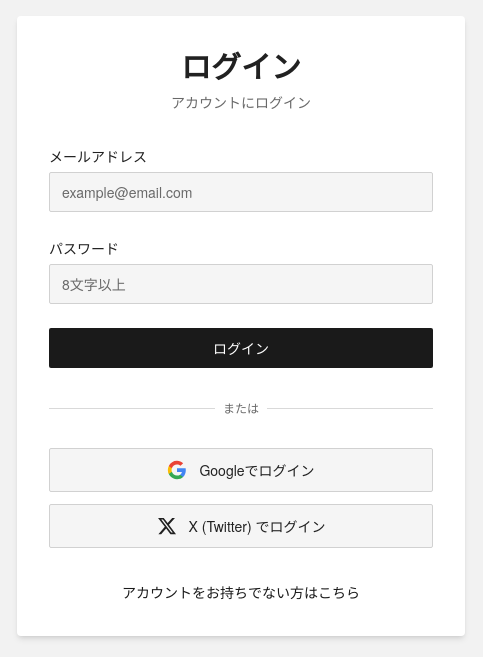
Test: LoginPage › shows loading state during form submission
The image size is (483, 657).
Type "user@test.com" into the field labelled "メールアドレス".
click(241, 192); type("user@test.com")  # box [49,172,433,212]
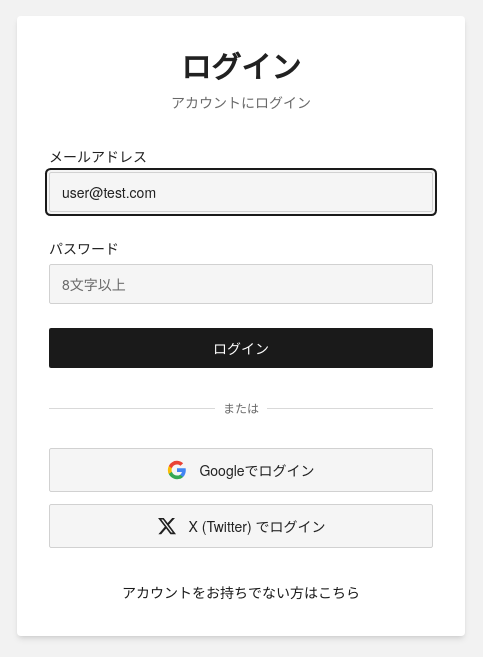
Type "password123" into the password field labelled "パスワード".
click(241, 284); type("password123")  # box [49,264,433,304]
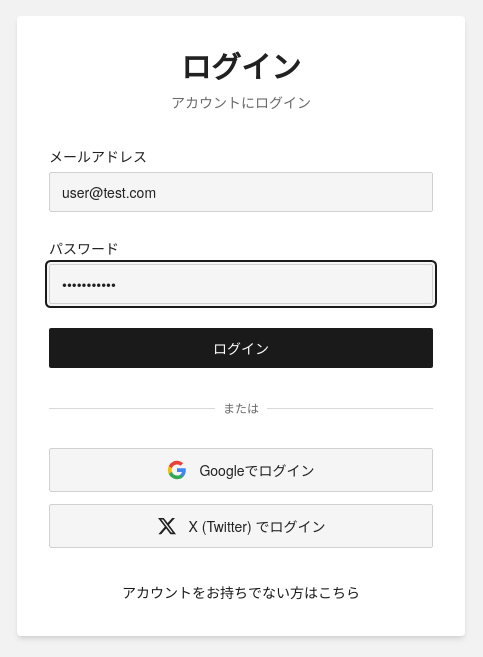
Click the button "ログイン".
click(241, 348)  # box [49,328,433,368]
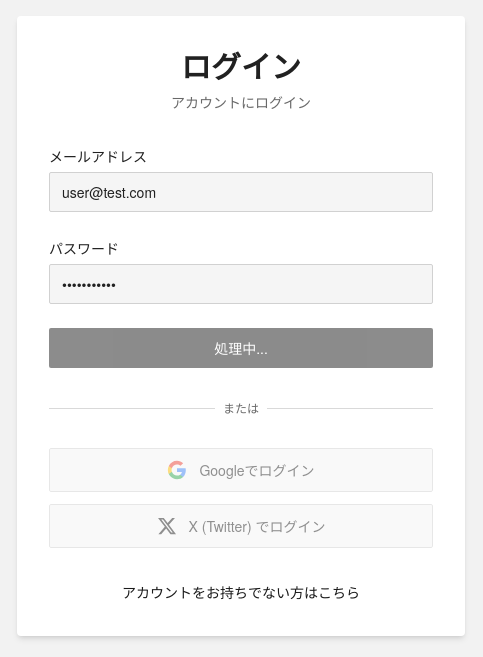
Result: the button "処理中..." is shown at [49,328,433,368]
